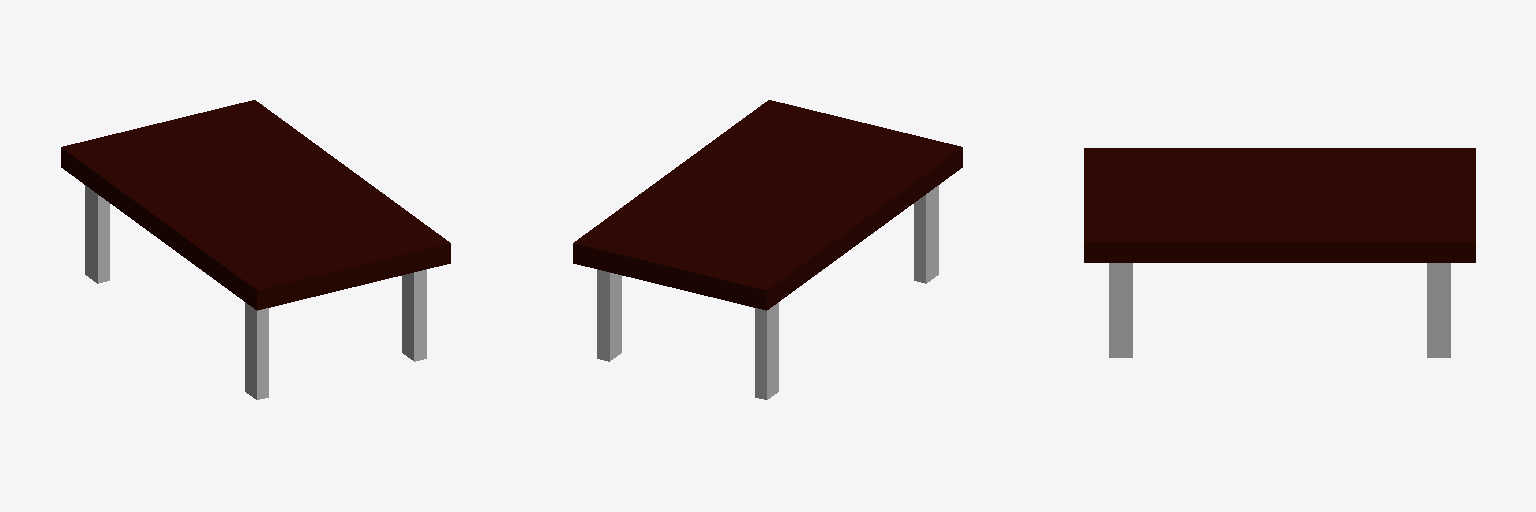
Rendered from table.obj.
3 renders of one model, left to right at view 1: azimuth 30°, elevation 25°; view 2: azimuth 150°, elevation 25°; view 3: azimuth 270°, elevation 25°, orthographic.
Parts seen in each view (by area): view 1: Table_Plane; view 2: Table_Plane; view 3: Table_Plane.
Boxes of the visible parts, x1=… form: Table_Plane: x1=61, y1=100, x2=450, y2=399; Table_Plane: x1=573, y1=100, x2=962, y2=399; Table_Plane: x1=1084, y1=148, x2=1475, y2=357.
Size of the model in its own units: 2 by 1.2 by 3.5.